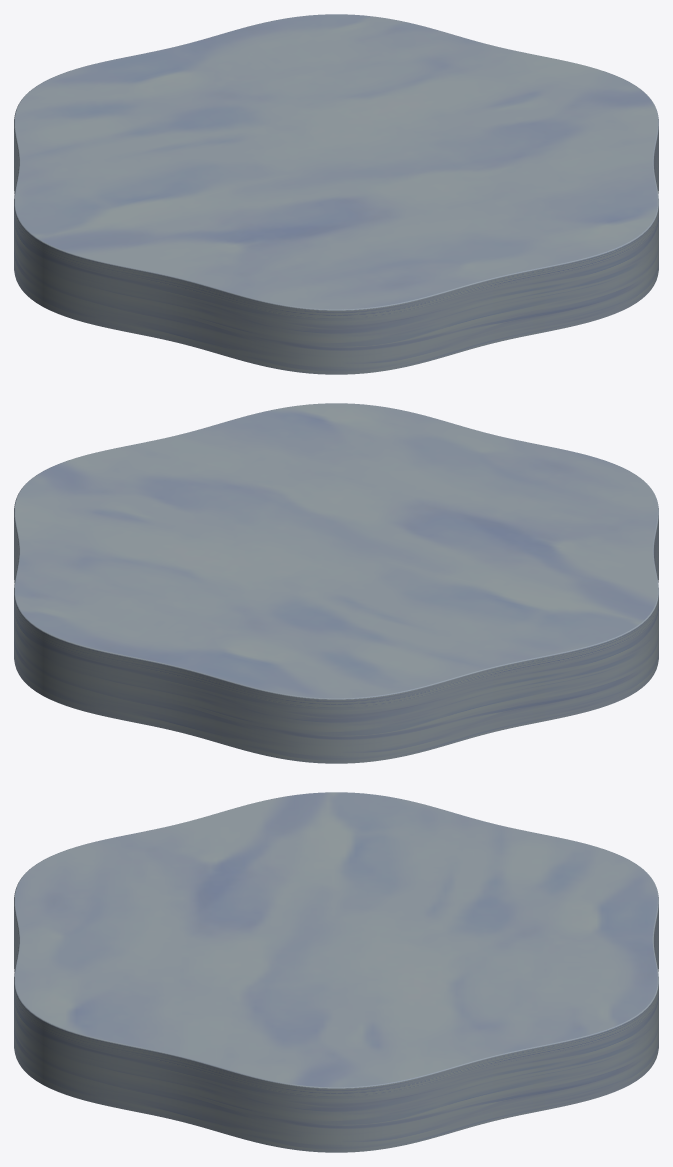
The model's file is starter-10.glb.
The picture shows the model from 3 angles, top to bottom: view 1: azimuth 30°, elevation 25°; view 2: azimuth 150°, elevation 25°; view 3: azimuth 270°, elevation 25°; orthographic projection.
Visible parts, largest first — view 1: geometry_0; view 2: geometry_0; view 3: geometry_0.
Part boxes in pixels (x1,y1,x2,y2): geometry_0: (14, 14, 658, 374); geometry_0: (14, 403, 658, 763); geometry_0: (14, 792, 658, 1152).
Size of the model in its own units: 58.72 by 6 by 54.08.
Materials: 1 (1 with a texture image).
